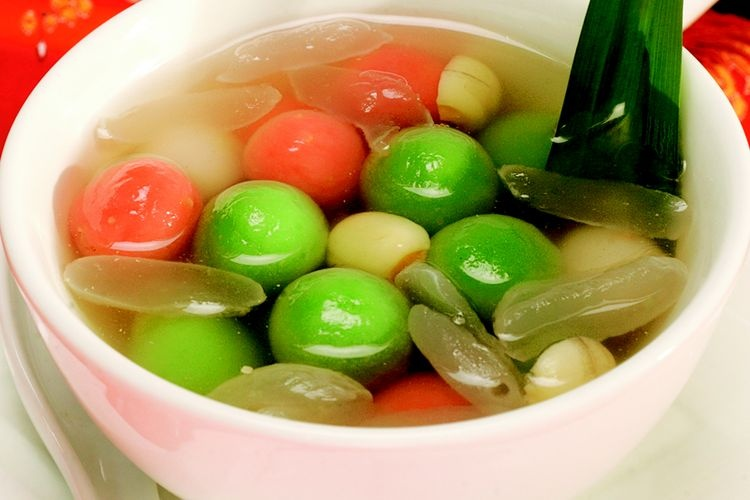ronde: (72, 17, 691, 426)
